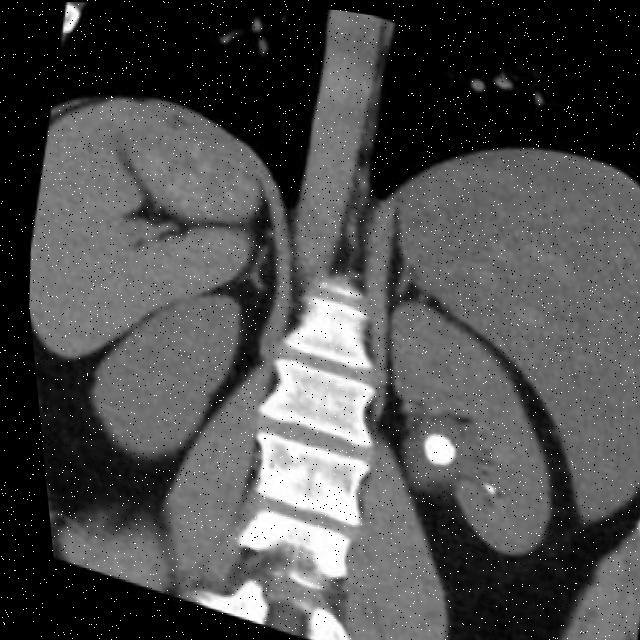Tas_Var: (400, 413, 461, 480), (461, 469, 498, 500)
